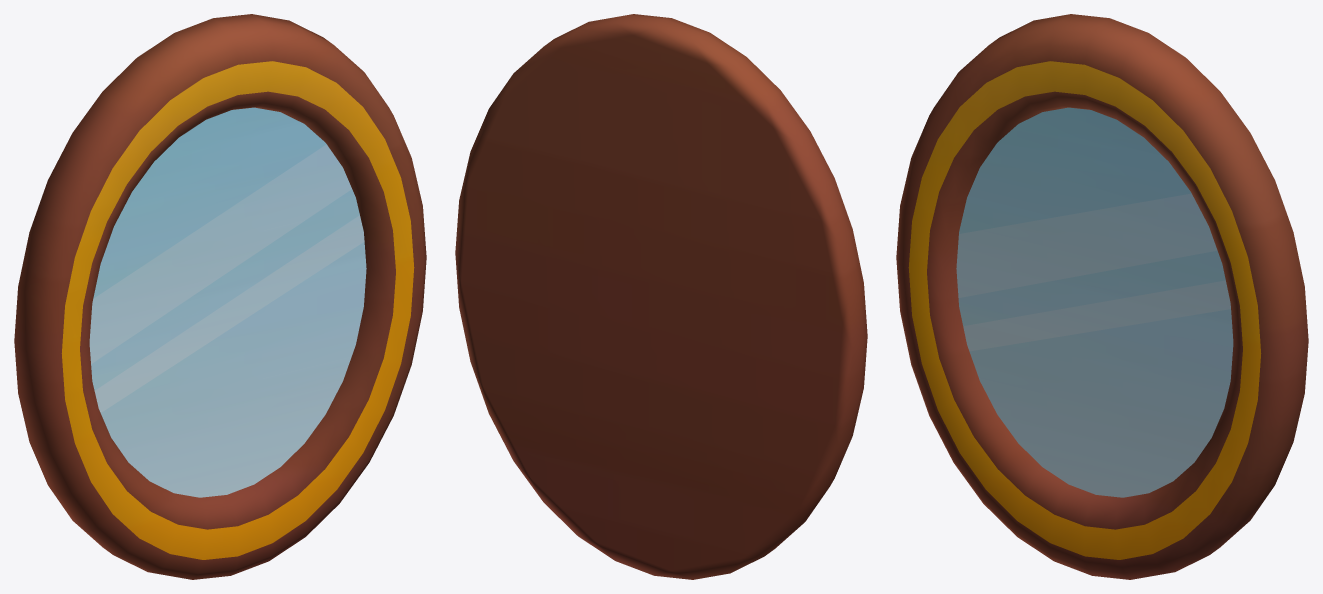
Rendered from Mirror_02.glb.
3 renders of one model, left to right at view 1: azimuth 30°, elevation 25°; view 2: azimuth 150°, elevation 25°; view 3: azimuth 330°, elevation 25°, orthographic.
Visible parts, largest first — view 1: Mirror_02; view 2: Mirror_02; view 3: Mirror_02.
Part boxes in pixels (x1,y1,x2,y2): Mirror_02: (14,14,426,579); Mirror_02: (455,14,867,579); Mirror_02: (896,14,1308,579).
Size of the model in its own units: 0.6459 by 0.8513 by 0.0756.
1 material, 1 textured.
